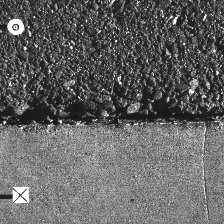circle: (7, 18, 24, 36)
crack: (1, 112, 223, 128)
square: (12, 187, 29, 203)
